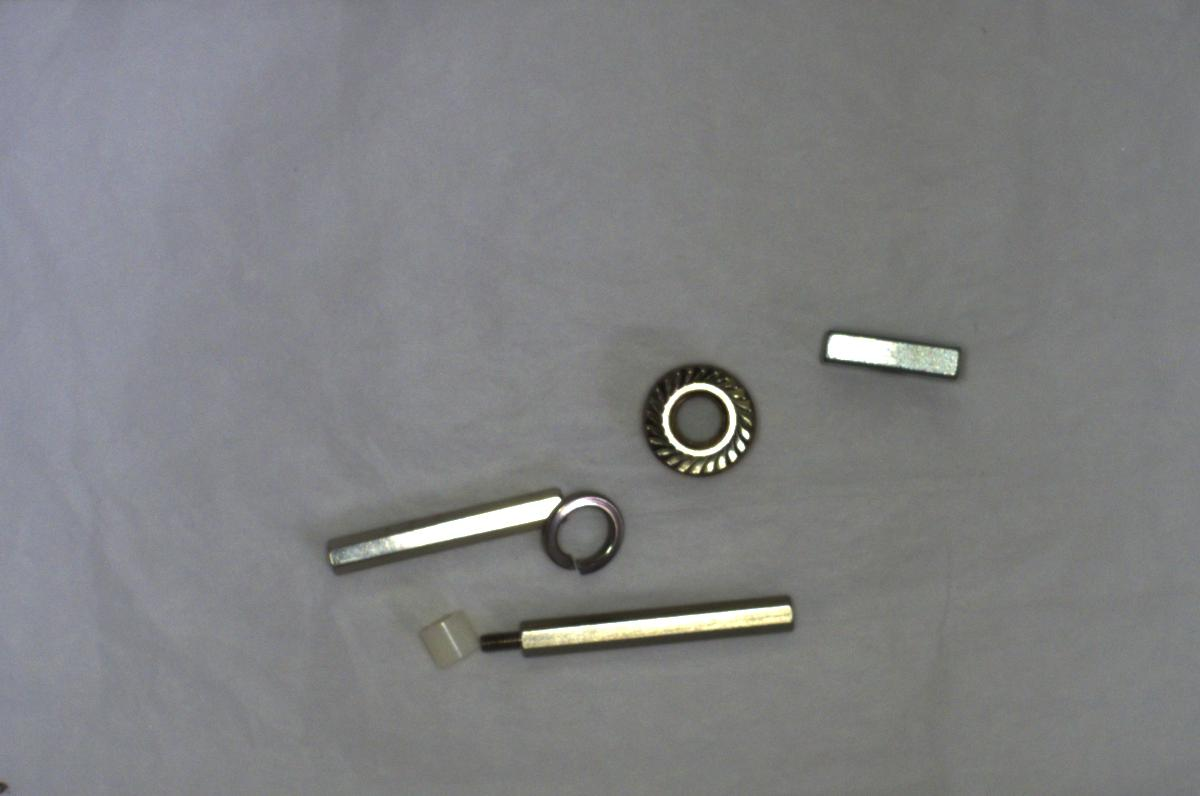Double hexagonal column: (319, 490, 560, 581)
Flange nut: (632, 354, 767, 486)
Hexagonal steel column: (470, 585, 801, 670)
Plastic cushion pillar: (415, 601, 480, 674)
Rectangular nut: (806, 327, 980, 382)
Spring washer: (537, 485, 634, 575)
